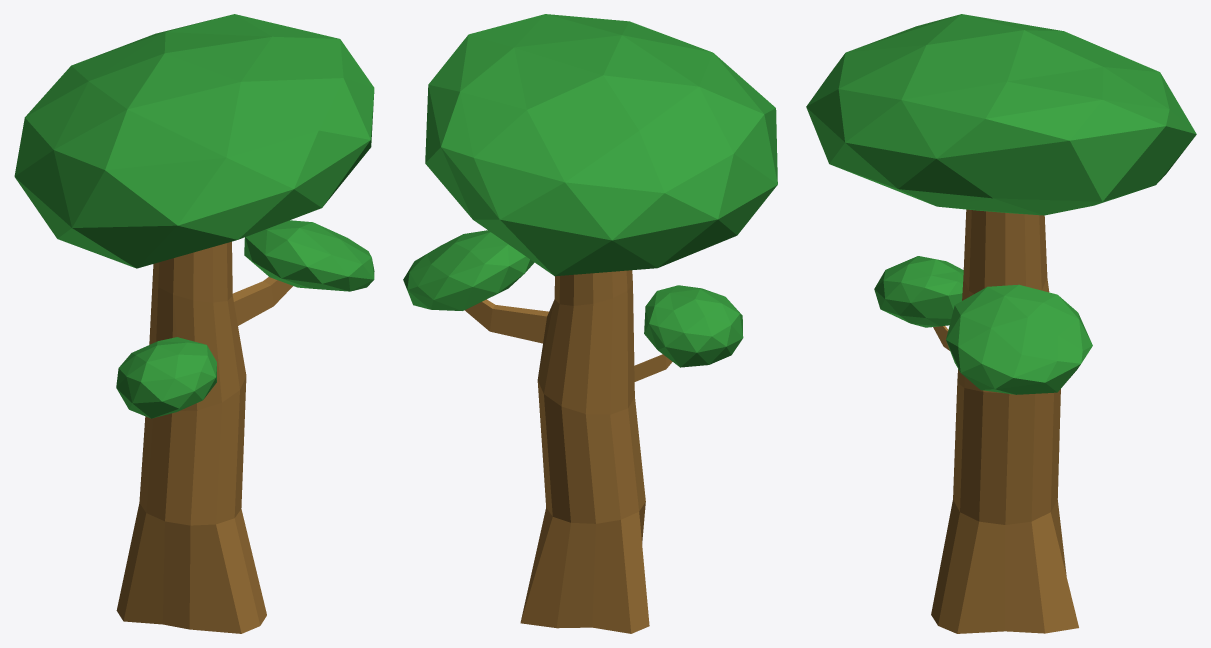
The model's file is Tree_02.fbx.
The picture shows the model from 3 angles, left to right: view 1: azimuth 30°, elevation 25°; view 2: azimuth 150°, elevation 25°; view 3: azimuth 270°, elevation 25°; orthographic projection. The views are drawn at different scales.
Visible parts, largest first — view 1: Tree02; view 2: Tree02; view 3: Tree02.
Part boxes in pixels (x1,y1,x2,y2): Tree02: (14, 14, 374, 633); Tree02: (403, 14, 777, 633); Tree02: (806, 14, 1196, 633).
Size of the model in its own units: 702 by 1114 by 693.
